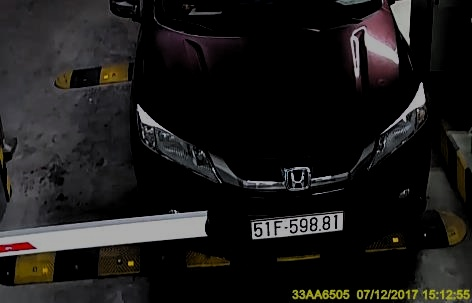plate: (244, 206, 351, 243)
